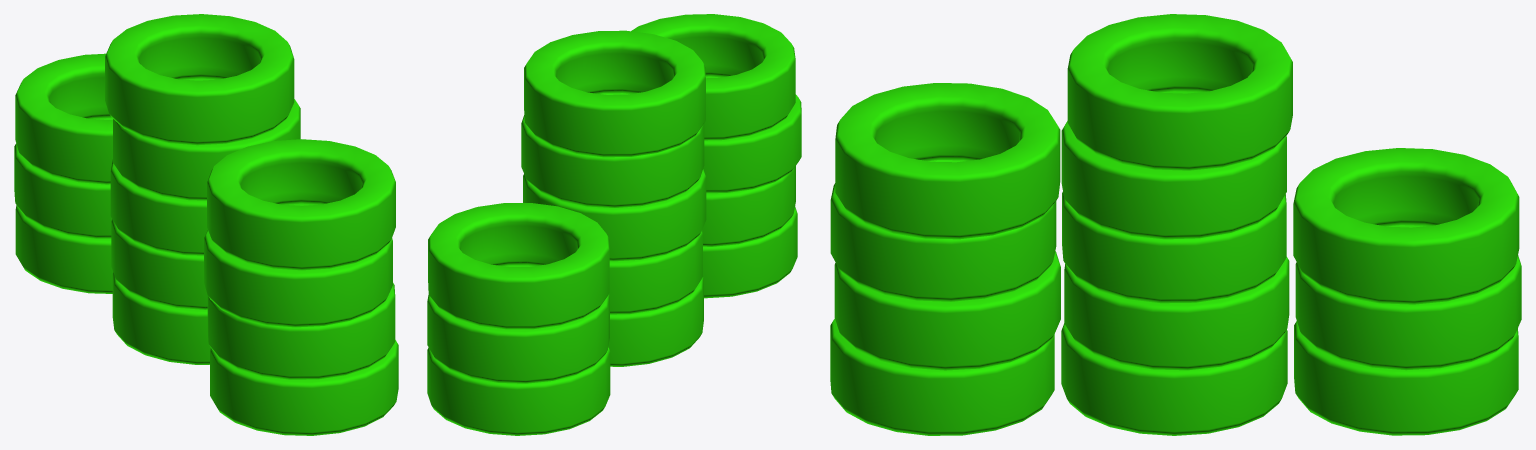
Rendered from Tire_Pile_03_Lod0.fbx.
The picture shows the model from 3 angles, left to right: view 1: azimuth 30°, elevation 25°; view 2: azimuth 150°, elevation 25°; view 3: azimuth 270°, elevation 25°; orthographic projection. The views are drawn at different scales.
Parts seen in each view (by area): view 1: Tire_Pile_03_Lod0; view 2: Tire_Pile_03_Lod0; view 3: Tire_Pile_03_Lod0.
Part boxes in pixels (box(x1,y1,x2,y2)): Tire_Pile_03_Lod0: box(14, 14, 398, 435); Tire_Pile_03_Lod0: box(427, 14, 801, 435); Tire_Pile_03_Lod0: box(830, 14, 1521, 435).
Size of the model in its own units: 79.62 by 123 by 237.
